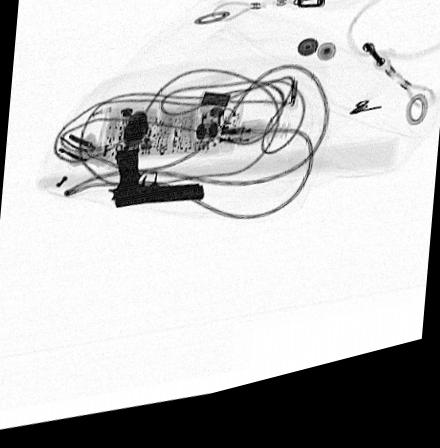Gun: (105, 155, 207, 213)
